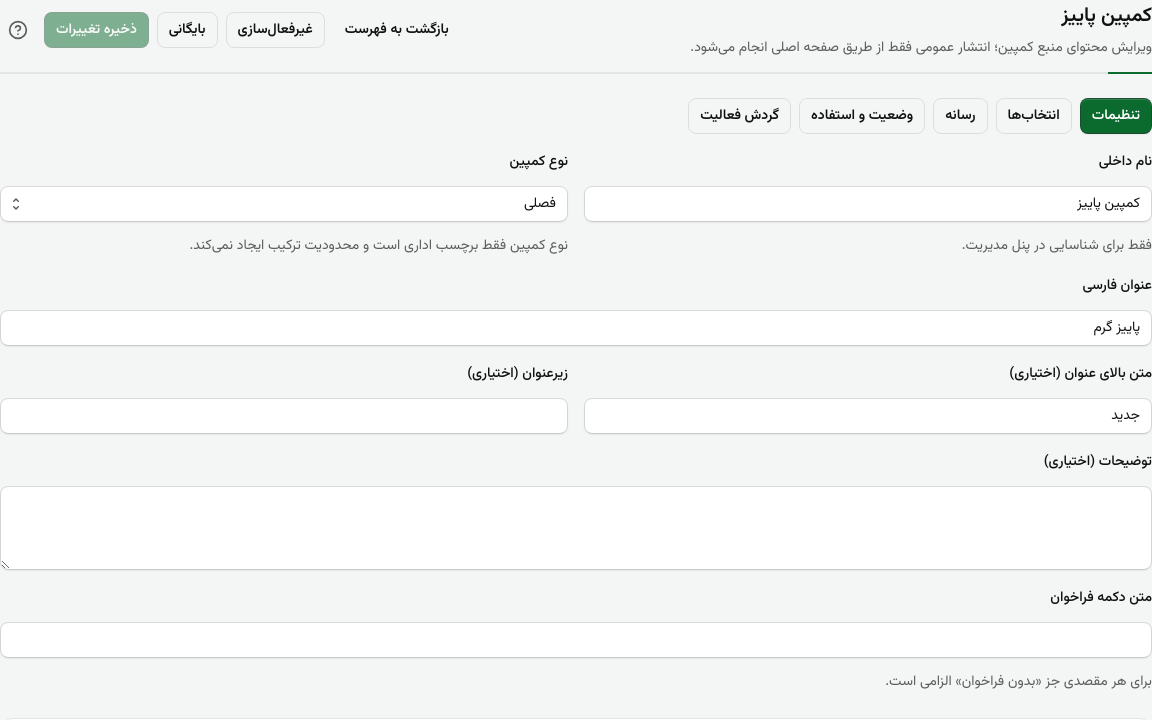
Test case: MerchandisingCampaignEditorPage (SS-275) › associates invalid fields with rendered errors and keeps descriptions
The image size is (1152, 720).
Step 1. Clear the field labelled "عنوان فارسی" → (576, 328), box [0, 310, 1151, 346]
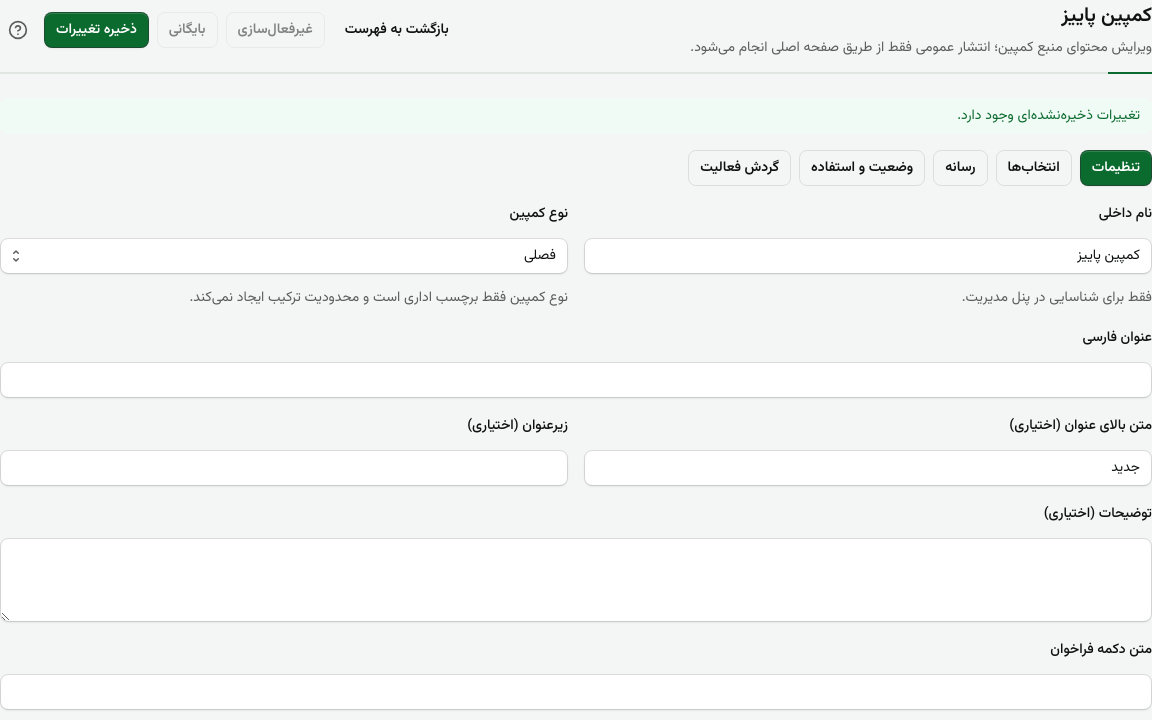
Step 2. Click the button "ذخیره تغییرات" → (96, 30), box [44, 12, 149, 48]
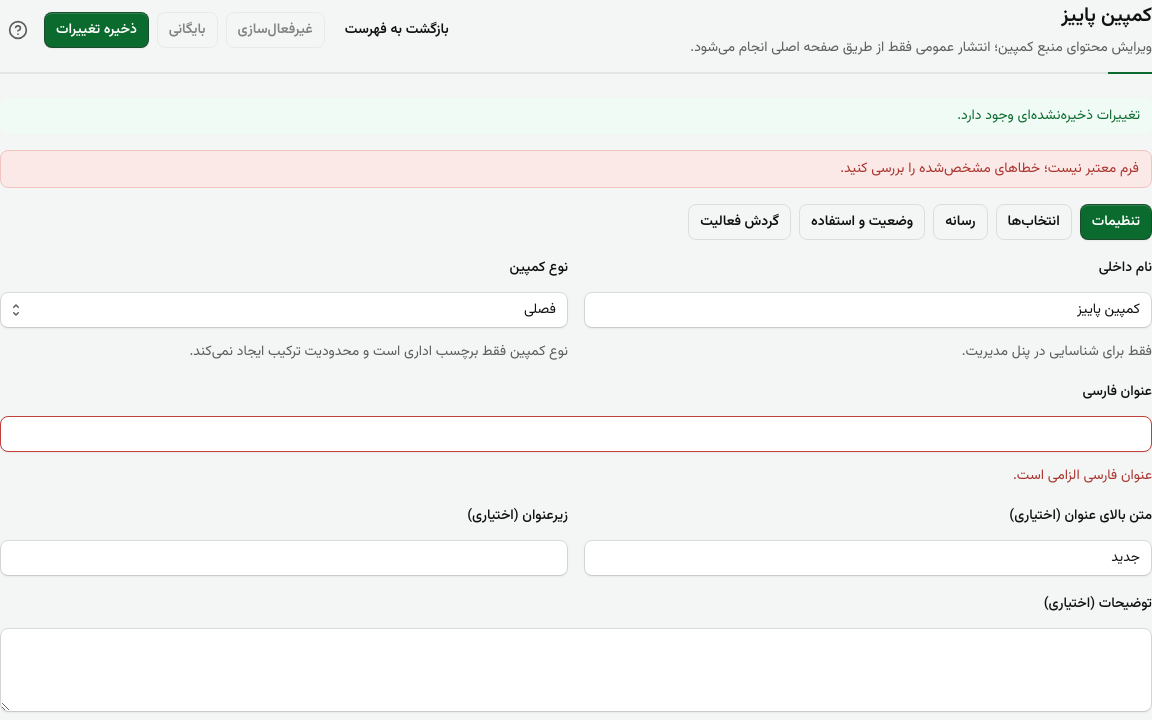
expect the text "عنوان فارسی الزامی است." is shown: met, box [1013, 465, 1151, 487]
